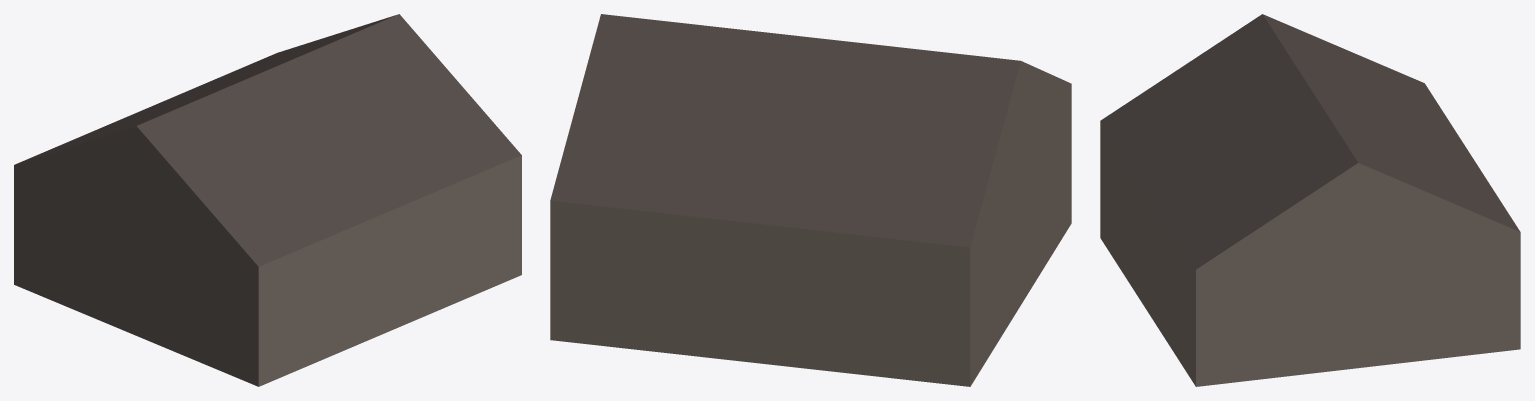
3 views of the same model, side by side, from view 1: azimuth 30°, elevation 25°; view 2: azimuth 150°, elevation 25°; view 3: azimuth 270°, elevation 25° (orthographic). The views are drawn at different scales.
Parts seen in each view (by area): view 1: HP-w1376988785; view 2: HP-w1376988785; view 3: HP-w1376988785.
Boxes of the visible parts, x1,y1,x2,y2 form: HP-w1376988785: (14,14,521,386); HP-w1376988785: (550,14,1071,386); HP-w1376988785: (1100,14,1520,386).
Size of the model in its own units: 20.47 by 10.51 by 19.49.
